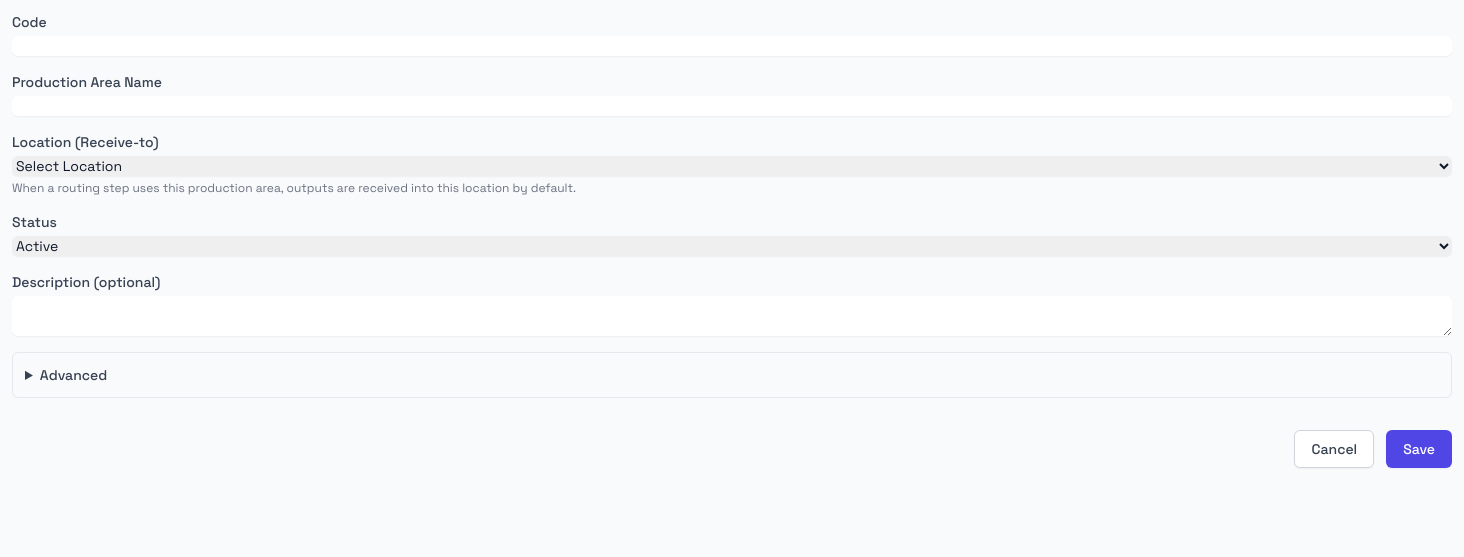
Test: WorkCenterForm › validates required fields
The width and height of the screenshot is (1464, 557).
Click the button "Save" at {"x": 1419, "y": 449}, box [1386, 430, 1452, 468]
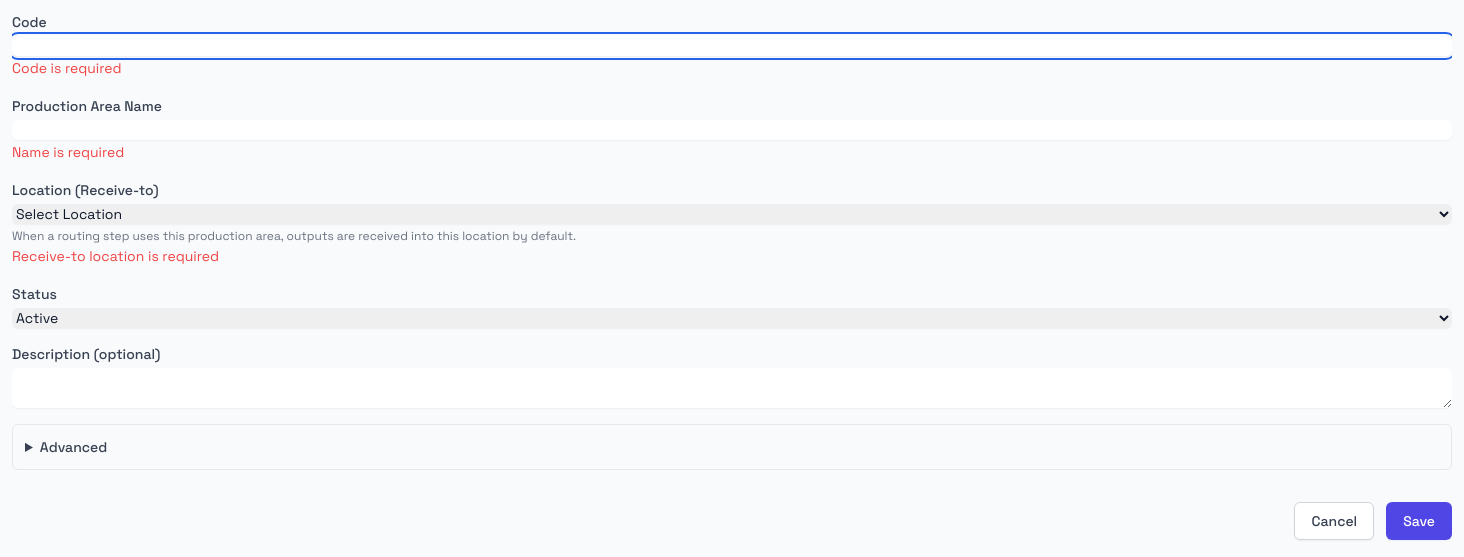
Expected: the text "Code is required" is shown, [12, 59, 122, 77]
Expected: the text "Name is required" is shown, [12, 143, 124, 161]
Expected: the text "Receive-to location is required" is shown, [12, 247, 219, 265]
